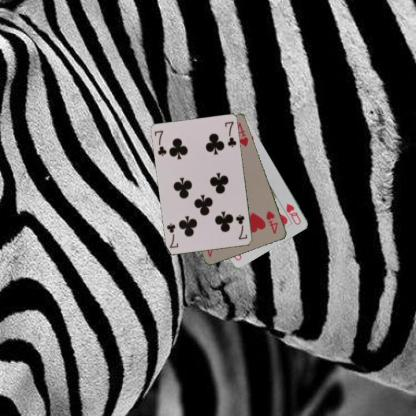4h: (264, 208, 279, 235)
7c: (152, 128, 168, 158), (234, 212, 249, 241)
Qh: (284, 201, 302, 227)
